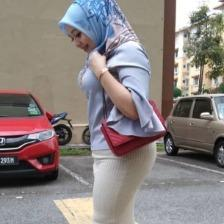Non Syar-i: (57, 0, 136, 69)
